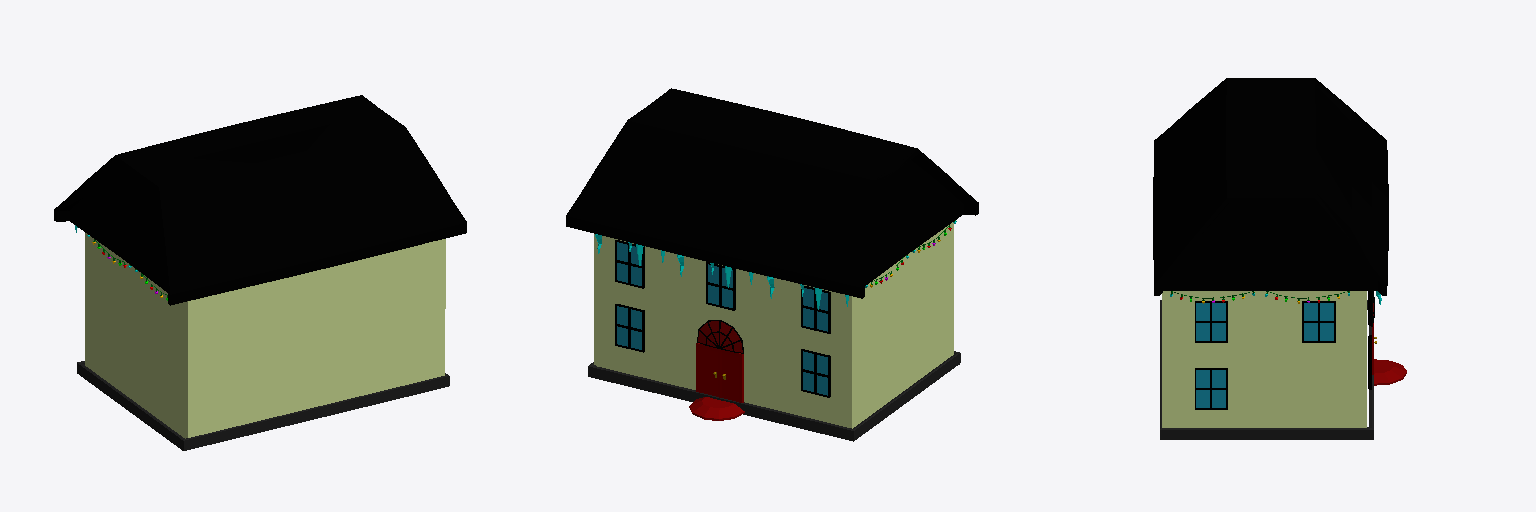
Rendered from House_Ice_Hazard.obj.
The picture shows the model from 3 angles: view 1: azimuth 30°, elevation 25°; view 2: azimuth 150°, elevation 25°; view 3: azimuth 270°, elevation 25°; orthographic projection.
Visible parts, largest first — view 1: Roof_top_stright003, house, house_blank, house_base005; view 2: Roof_top_stright003, house, house_blank, house_base005, double_door003, window007, window006, window005, window003, window004, half_moon_window, steps002; view 3: Roof_top_stright003, house, house_blank, house_base005, window009, window010, window008, steps002.
Boxes of the visible parts, x1,y1,x2,y2 form: Roof_top_stright003: [54, 95, 466, 305]; house: [85, 296, 444, 438]; house_blank: [85, 233, 445, 370]; house_base005: [77, 361, 449, 450]; Roof_top_stright003: [566, 88, 978, 298]; house: [594, 285, 953, 428]; house_blank: [594, 222, 953, 358]; house_base005: [588, 351, 960, 441]; double_door003: [696, 343, 743, 402]; window007: [615, 304, 644, 352]; window006: [801, 349, 830, 397]; window005: [801, 286, 830, 333]; window003: [615, 240, 644, 288]; window004: [706, 262, 735, 310]; half_moon_window: [697, 320, 743, 353]; steps002: [689, 397, 744, 420]; Roof_top_stright003: [1153, 78, 1388, 295]; house: [1162, 361, 1366, 427]; house_blank: [1162, 291, 1366, 360]; house_base005: [1160, 300, 1373, 439]; window009: [1302, 301, 1335, 342]; window010: [1195, 368, 1227, 409]; window008: [1195, 301, 1227, 342]; steps002: [1374, 359, 1406, 385].
Bounding box in the file's own units: 14.98 × 11.48 × 11.13.